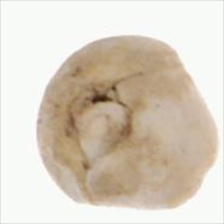L3: (68, 78, 131, 167)
L4: (36, 35, 219, 210)
